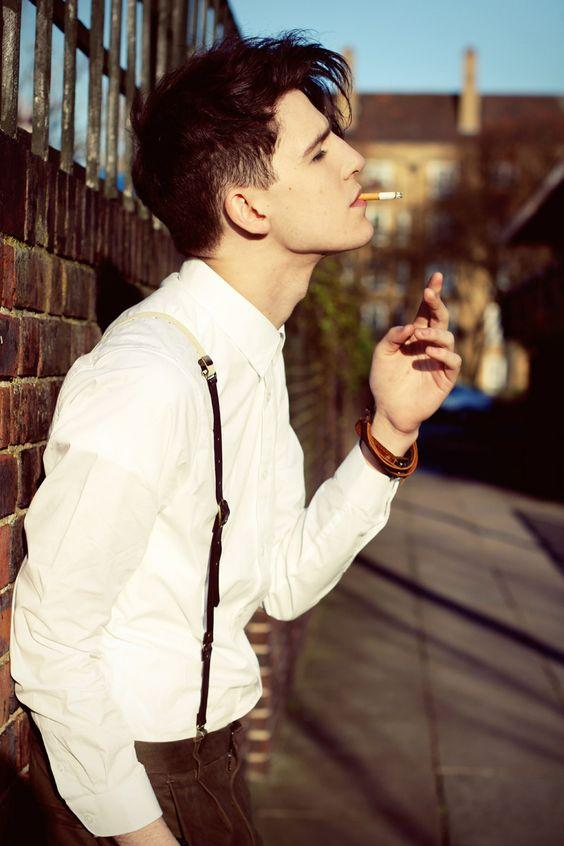cigarette: (356, 191, 405, 201)
